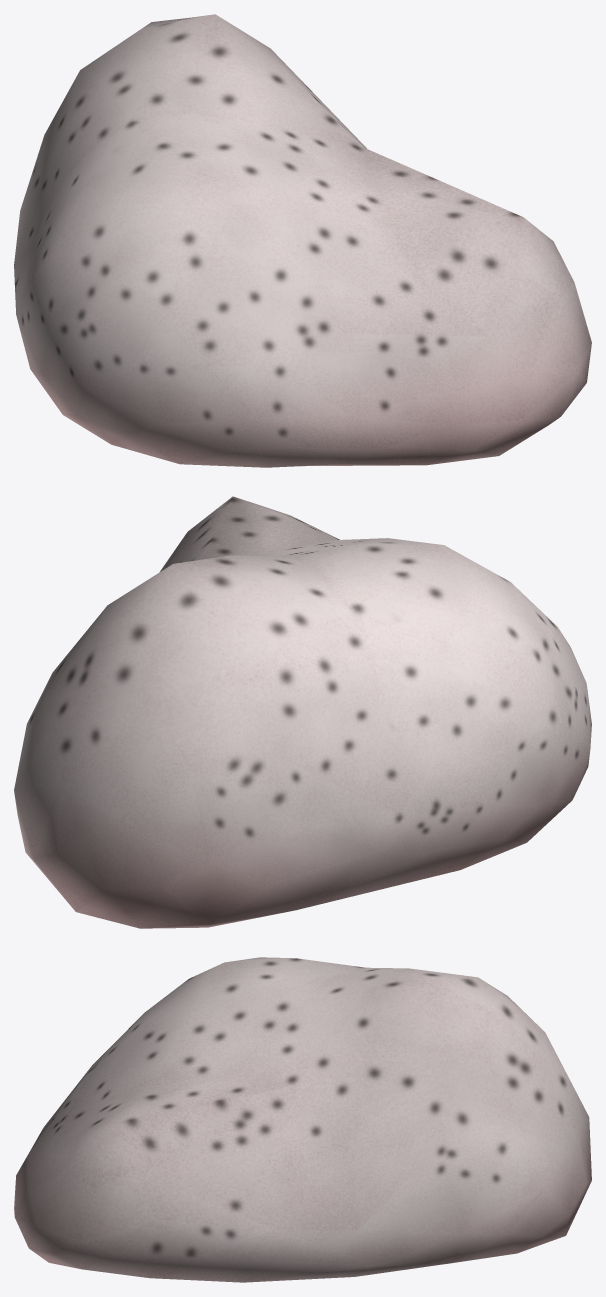
Rendered from CoralStone.glb.
3 views of the same model, one above another, from view 1: azimuth 30°, elevation 25°; view 2: azimuth 150°, elevation 25°; view 3: azimuth 270°, elevation 25° (orthographic). The views are drawn at different scales.
Visible parts, largest first — view 1: Icosphere; view 2: Icosphere; view 3: Icosphere.
Boxes of the visible parts, x1,y1,x2,y2 form: Icosphere: [14, 14, 591, 467]; Icosphere: [14, 496, 591, 928]; Icosphere: [14, 957, 591, 1282].
Bounding box in the file's own units: 1.86 × 1.17 × 2.38.
1 material, 1 textured.
